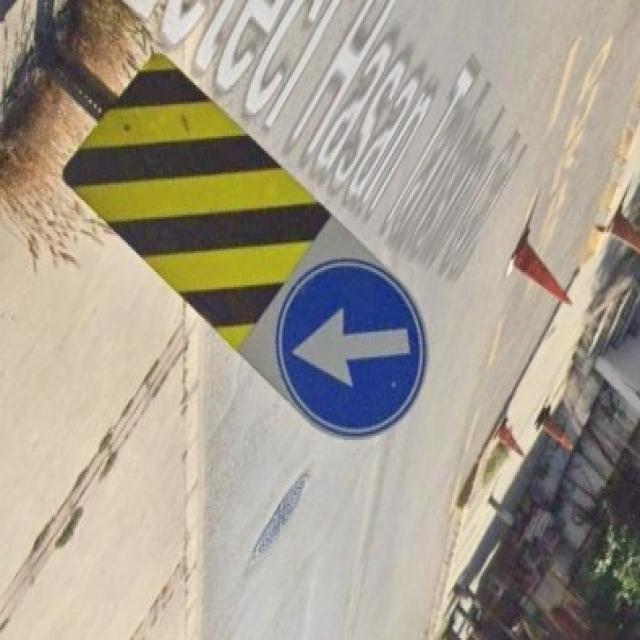Turn Left: (273, 257, 426, 436)
